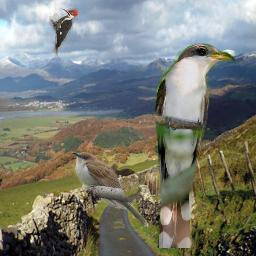Cuckoo: (153, 42, 236, 248), (71, 152, 149, 228)
Woodpecker: (49, 8, 79, 57)
